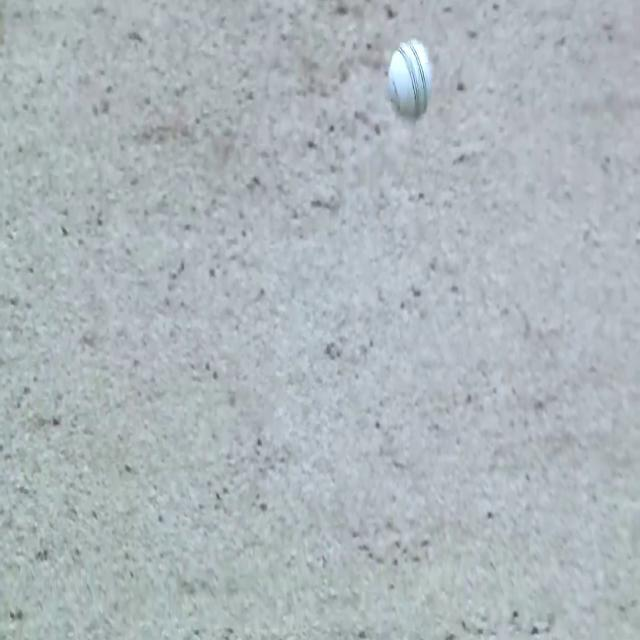ball: (381, 32, 436, 123)
